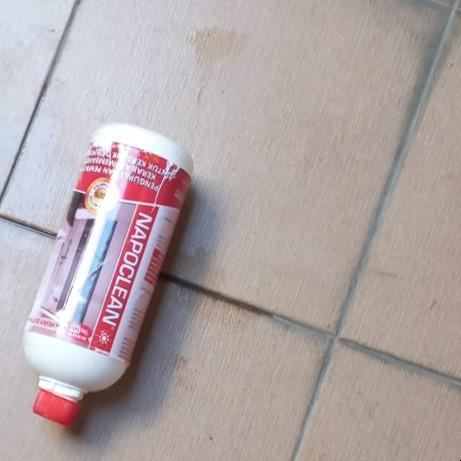Plastik: (23, 123, 193, 426)
